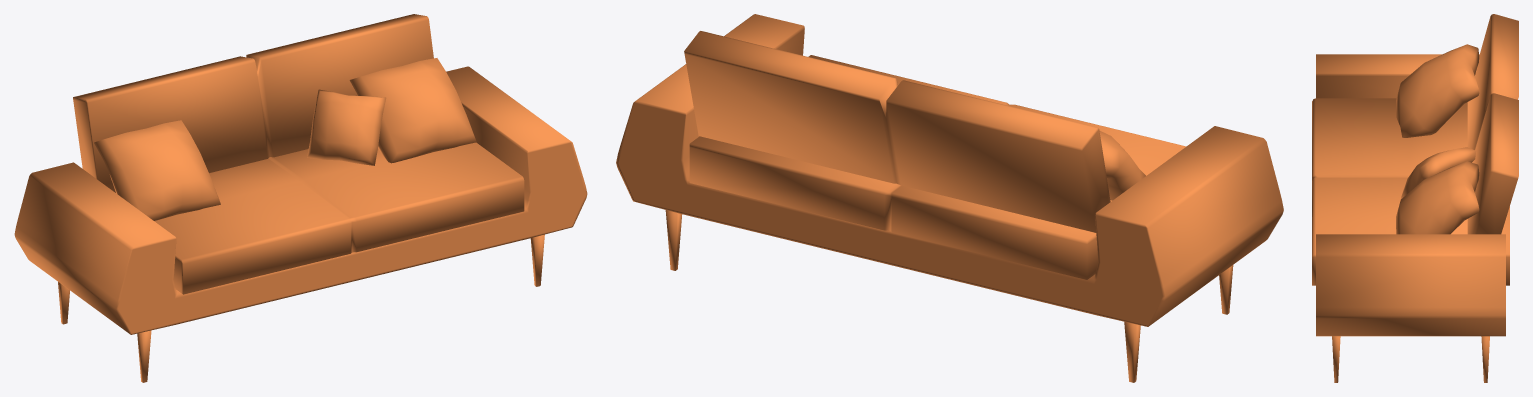
File: S_Sofa.glb
The picture shows the model from 3 angles, left to right: view 1: azimuth 30°, elevation 25°; view 2: azimuth 150°, elevation 25°; view 3: azimuth 270°, elevation 25°; orthographic projection. The views are drawn at different scales.
Visible parts, largest first — view 1: S_Sofa_low, S_SofaPillows_00_low, S_SofaPillows_01_low, S_SofaPillows02_low; view 2: S_Sofa_low, S_SofaPillows_00_low; view 3: S_Sofa_low, S_SofaPillows_00_low, S_SofaPillows_01_low, S_SofaPillows02_low.
Boxes of the visible parts, x1,y1,x2,y2 form: S_Sofa_low: [14, 14, 587, 382]; S_SofaPillows_00_low: [94, 120, 220, 220]; S_SofaPillows_01_low: [349, 58, 476, 163]; S_SofaPillows02_low: [307, 89, 386, 165]; S_Sofa_low: [616, 14, 1283, 382]; S_SofaPillows_00_low: [1099, 130, 1145, 200]; S_Sofa_low: [1312, 14, 1518, 382]; S_SofaPillows_00_low: [1396, 44, 1479, 137]; S_SofaPillows_01_low: [1396, 161, 1479, 234]; S_SofaPillows02_low: [1401, 147, 1476, 198].
Size of the model in its own units: 1.8 by 0.7822 by 0.7314.
